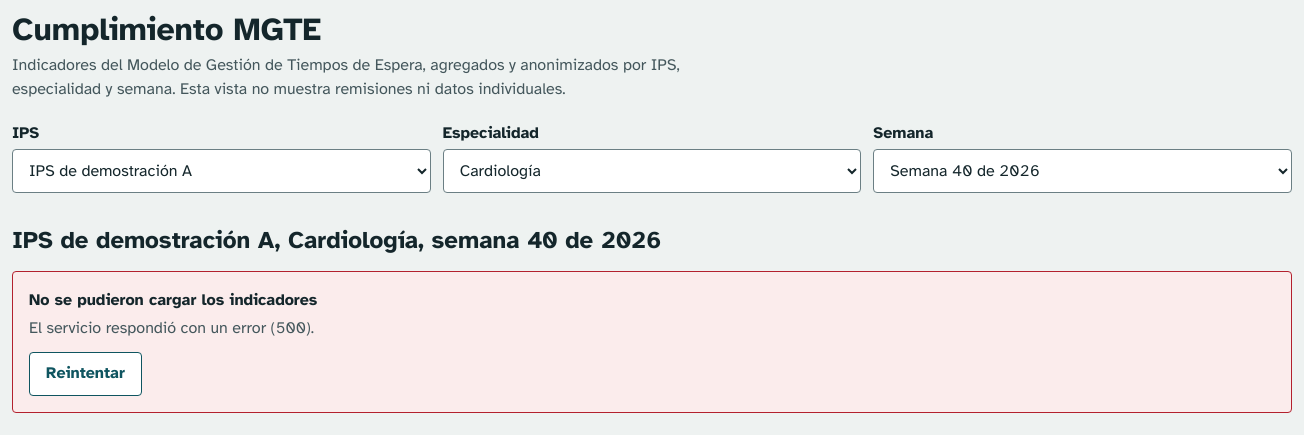
Scenario: Tablero de cumplimiento MGTE › muestra un error real como error y permite reintentar
The image size is (1304, 435).
expect the message shows "No se pudieron cargar los indicadores": met, box [29,290,317,310]
Click the button "Reintentar".
click(85, 374)  # box [29,352,142,396]
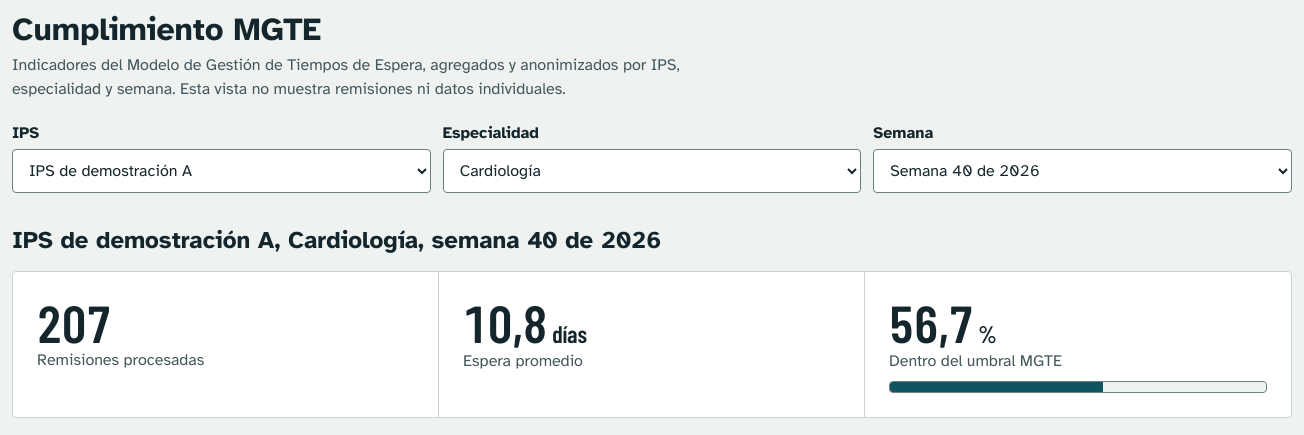
expect the text "Remisiones procesadas" is shown: met, box [37,350,204,370]
